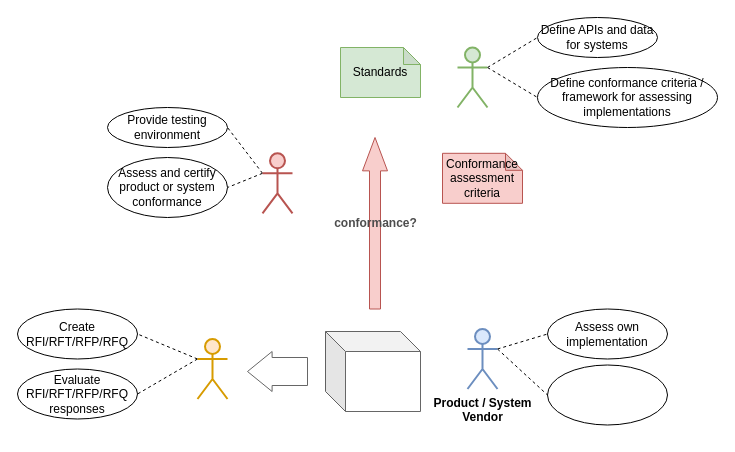
Some shapes in this 735 by 452 pixel diagram are drawn without their labels. Each missing label, with the centre of its shape:
Conformance Assessment Agency: (277,183)
deliver: (277,371)
Document conformance in RFx response: (607,394)
Platform Specifier: (472,77)
Solution Procurer: (212,369)
Solution X: (372,371)
